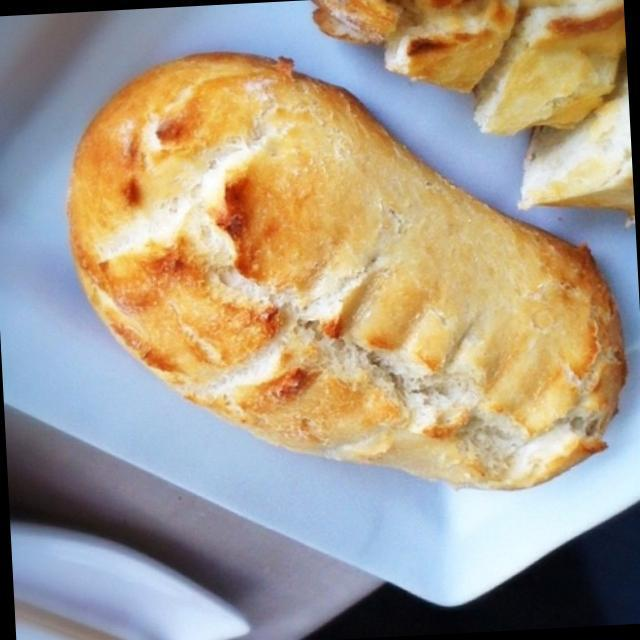Bread: (53, 27, 628, 524)
